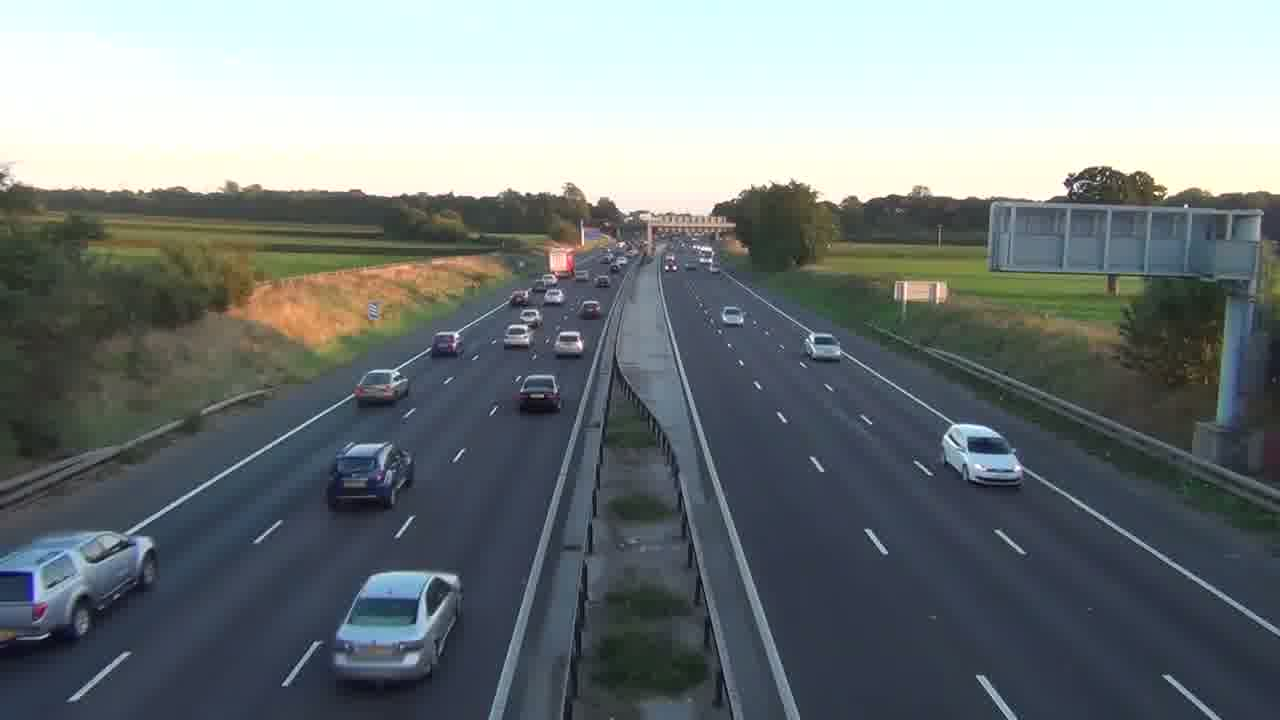car: (0, 529, 160, 644), (330, 569, 464, 688), (326, 440, 414, 511), (941, 422, 1024, 487), (353, 367, 411, 406), (514, 372, 562, 413), (801, 332, 842, 362), (553, 330, 584, 358), (504, 322, 530, 348), (578, 298, 602, 319)
